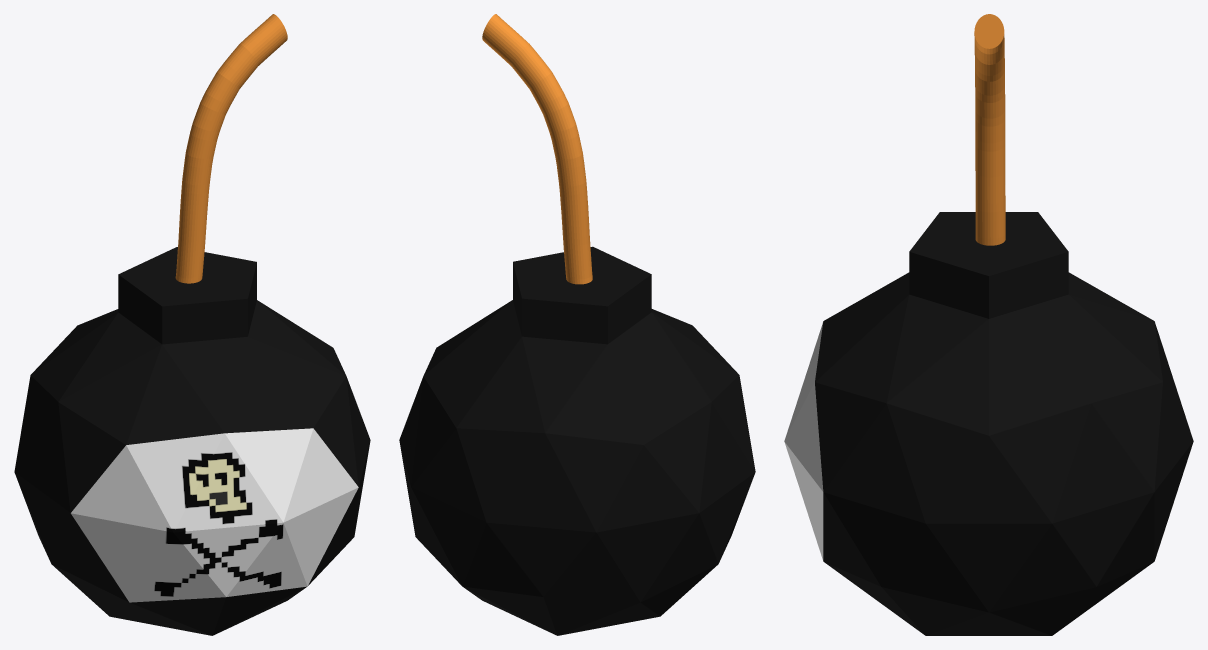
Rendered from Bomb.fbx.
3 views of the same model, side by side, from view 1: azimuth 30°, elevation 25°; view 2: azimuth 150°, elevation 25°; view 3: azimuth 270°, elevation 25° (orthographic). The views are drawn at different scales.
Visible parts, largest first — view 1: Icosphere, Cylinder; view 2: Icosphere, Cylinder; view 3: Icosphere, Cylinder.
Part boxes in pixels (x1,y1,x2,y2): Icosphere: (14,247,370,635); Cylinder: (175,14,287,283); Icosphere: (399,246,755,635); Cylinder: (482,14,592,284); Icosphere: (784,212,1193,635); Cylinder: (974,14,1005,245).
Size of the model in its own units: 190 by 355 by 200.
